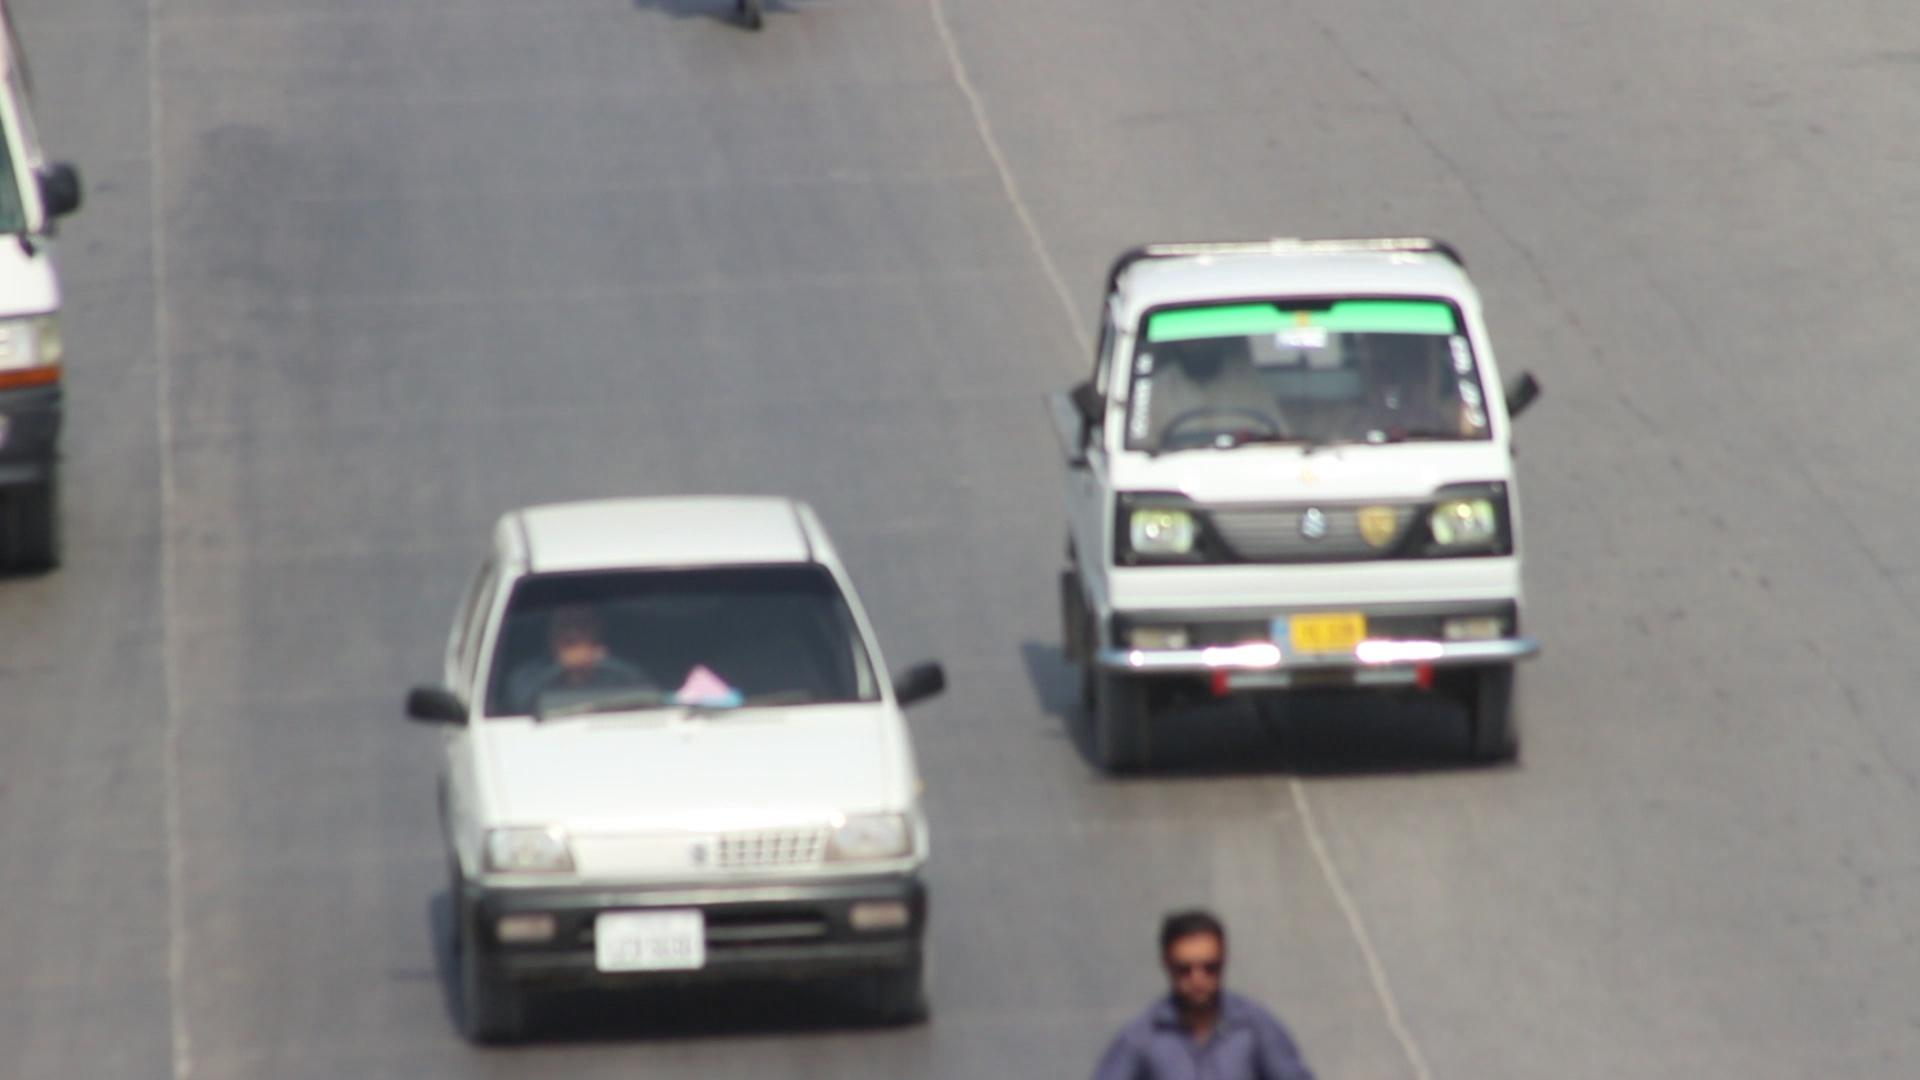windshield: (477, 550, 884, 727), (1121, 293, 1503, 460)
